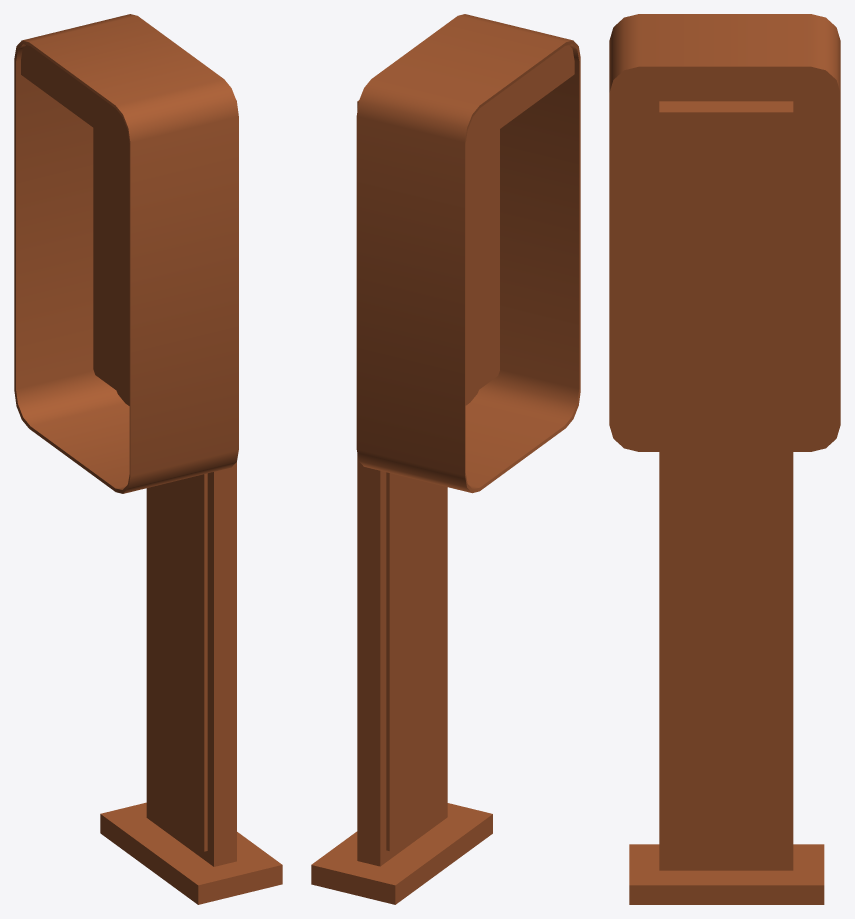
The model's file is mcp_pay_phone_02_LOD_1.FBX.
The picture shows the model from 3 angles, left to right: view 1: azimuth 30°, elevation 25°; view 2: azimuth 150°, elevation 25°; view 3: azimuth 270°, elevation 25°; orthographic projection.
Visible parts, largest first — view 1: mcp_pay_phone_02; view 2: mcp_pay_phone_02; view 3: mcp_pay_phone_02.
Part boxes in pixels (box(x1,y1,x2,y2)): mcp_pay_phone_02: box(14, 14, 282, 904); mcp_pay_phone_02: box(311, 14, 580, 904); mcp_pay_phone_02: box(609, 14, 840, 904).
Bounding box in the file's own units: 43.33 × 208 × 53.66.
